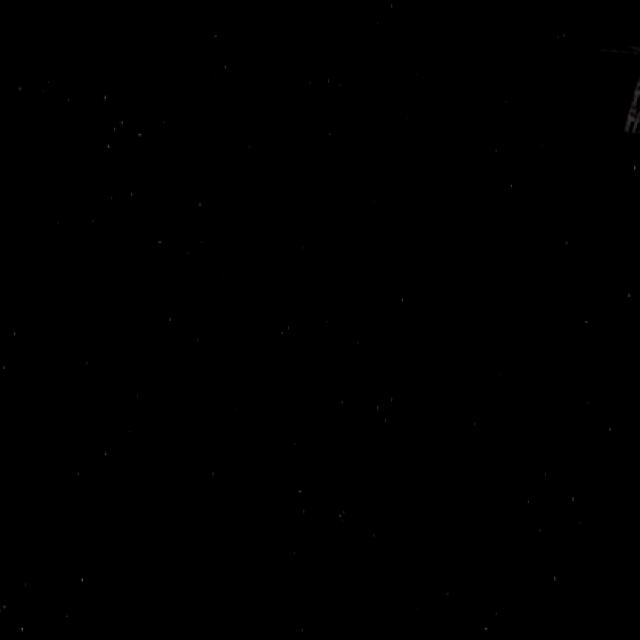satellite: (586, 23, 640, 148)
